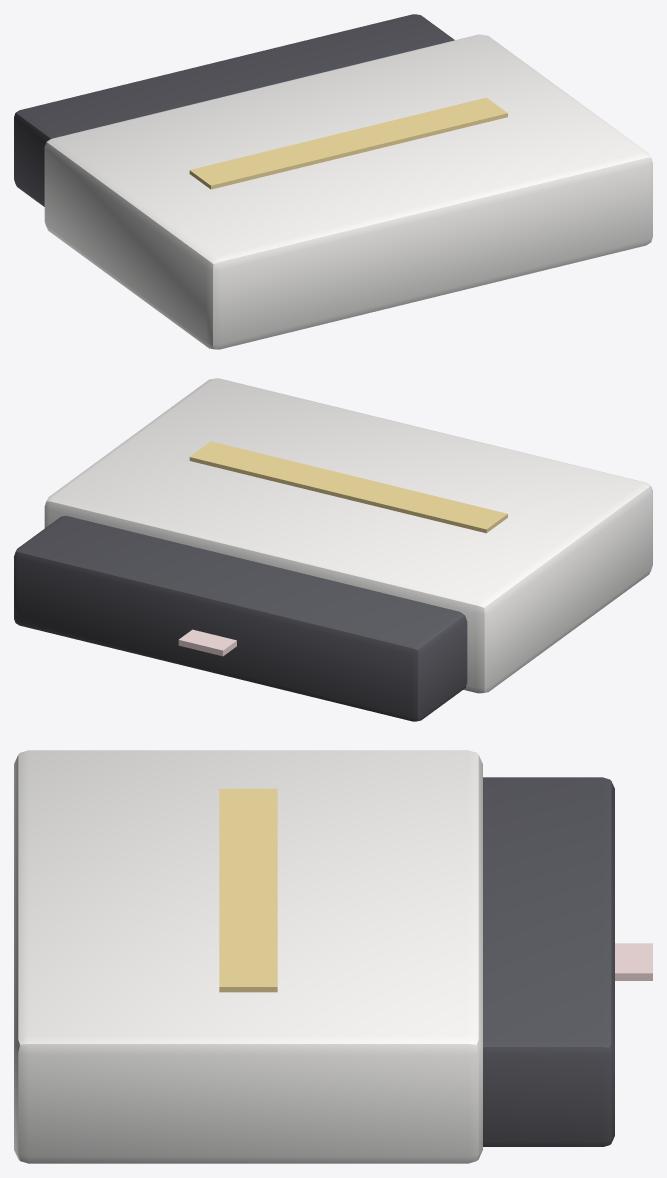
The model's file is couture-press-on-drawer-box.glb.
3 views of the same model, one above another, from view 1: azimuth 30°, elevation 25°; view 2: azimuth 150°, elevation 25°; view 3: azimuth 270°, elevation 25° (orthographic). The views are drawn at different scales.
Parts seen in each view (by area): view 1: box_OuterSleeve, box_SlidingDrawer, box_DebossedLogo; view 2: box_OuterSleeve, box_SlidingDrawer, box_DebossedLogo, box_BlushPullRibbon; view 3: box_OuterSleeve, box_SlidingDrawer, box_DebossedLogo, box_BlushPullRibbon.
Boxes of the visible parts, bbox=[...] form: box_OuterSleeve: bbox=[44, 34, 652, 349]; box_SlidingDrawer: bbox=[14, 14, 454, 206]; box_DebossedLogo: bbox=[189, 97, 507, 189]; box_OuterSleeve: bbox=[44, 378, 652, 693]; box_SlidingDrawer: bbox=[14, 515, 467, 721]; box_DebossedLogo: bbox=[189, 441, 507, 533]; box_BlushPullRibbon: bbox=[178, 629, 236, 656]; box_OuterSleeve: bbox=[14, 750, 482, 1163]; box_SlidingDrawer: bbox=[483, 777, 614, 1146]; box_DebossedLogo: bbox=[219, 788, 277, 992]; box_BlushPullRibbon: bbox=[615, 943, 652, 980].
Bounding box in the file's own units: 0.24 × 0.05 × 0.218.
